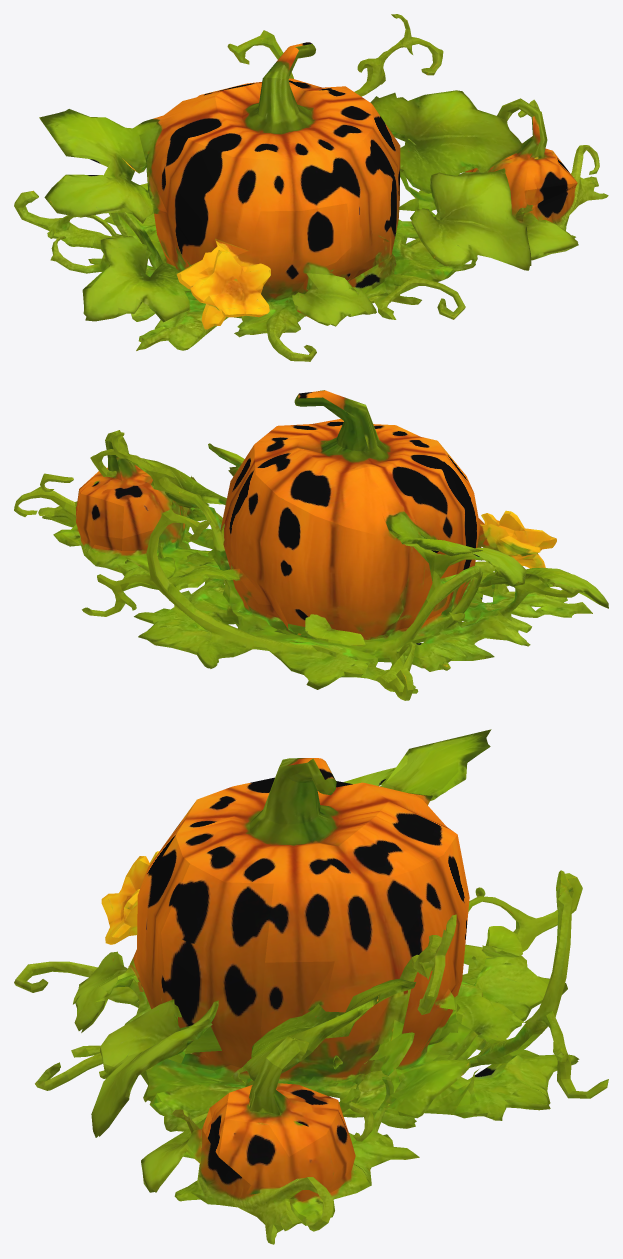
The model's file is pumpkin2.glb.
3 views of the same model, one above another, from view 1: azimuth 30°, elevation 25°; view 2: azimuth 150°, elevation 25°; view 3: azimuth 270°, elevation 25° (orthographic). The views are drawn at different scales.
Parts seen in each view (by area): view 1: Mesh0; view 2: Mesh0; view 3: Mesh0.
Part boxes in pixels (x1,y1,x2,y2): Mesh0: (14, 14, 608, 361); Mesh0: (14, 390, 608, 700); Mesh0: (14, 729, 608, 1244).
Bounding box in the file's own units: 1.89 × 0.6902 × 1.28.
Materials: 1 (1 with a texture image).
